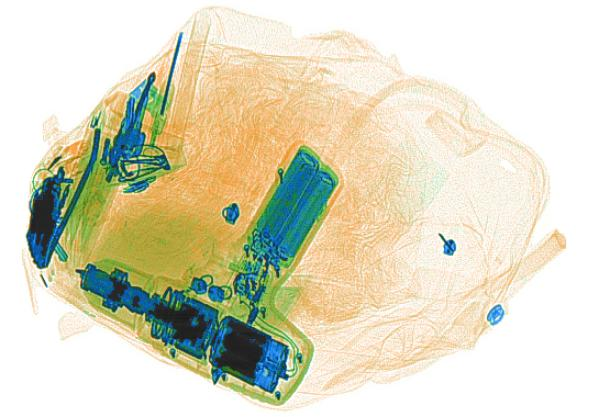battery: (253, 146, 335, 261)
